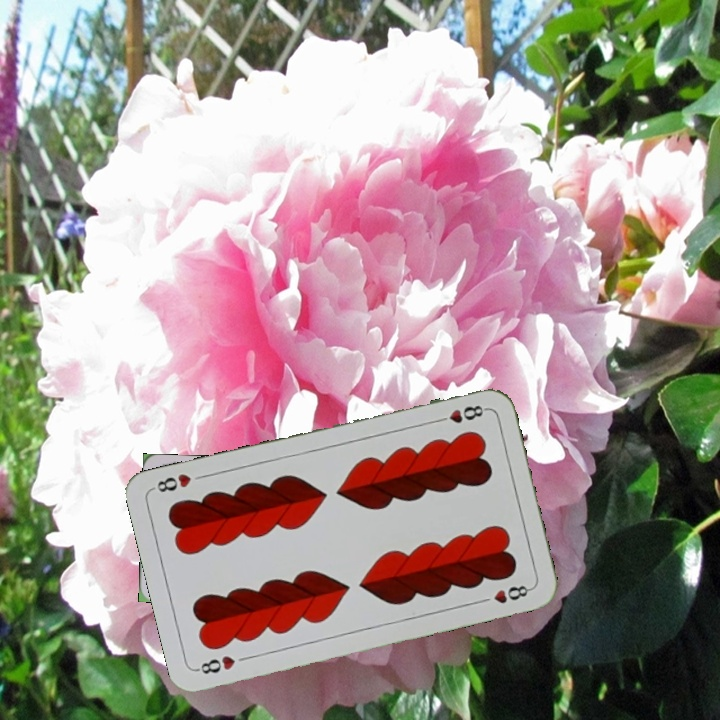H8: (431, 401, 489, 426), (193, 651, 238, 677)
